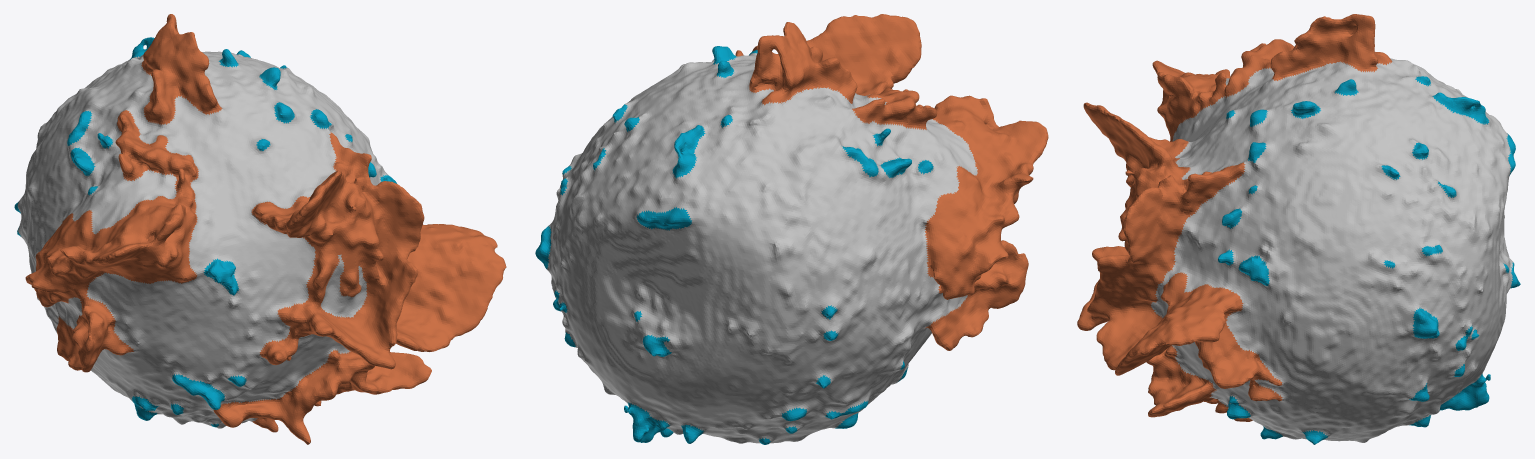
3 views of the same model, side by side, from view 1: azimuth 30°, elevation 25°; view 2: azimuth 150°, elevation 25°; view 3: azimuth 270°, elevation 25° (orthographic). The views are drawn at different scales.
Bounding box in the file's own units: 183 × 166 × 168.
